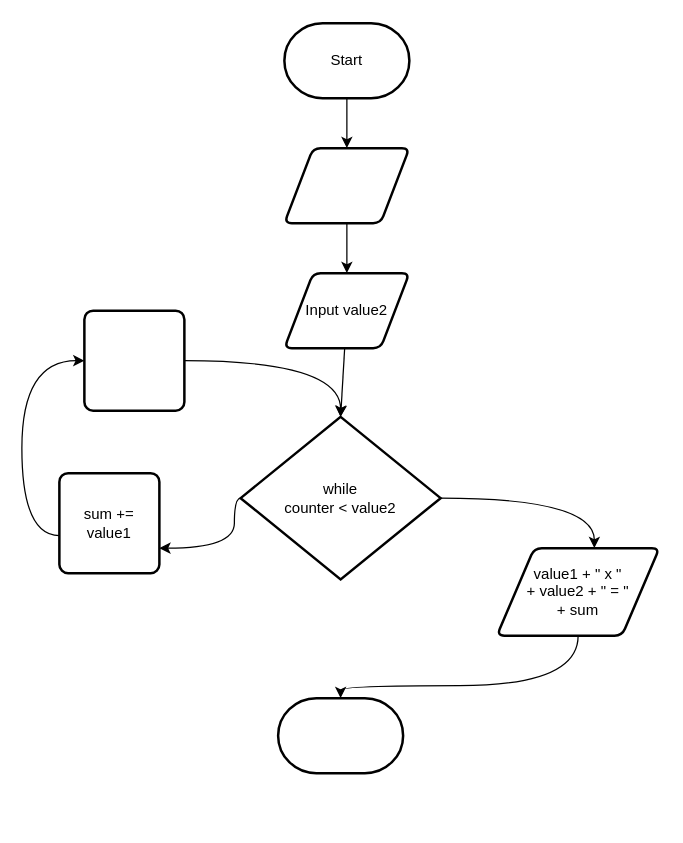
The diagram is 683 pixels wide and 843 high, and some of its shapes have lost their labels. The shapes that lost their labels are listed below. From the top down, each one's box as (x1, y1, x2, y2) in pixels, then its label:
(282, 146, 410, 224): Input value1
(82, 309, 185, 411): counter++
(276, 696, 404, 774): Stop
